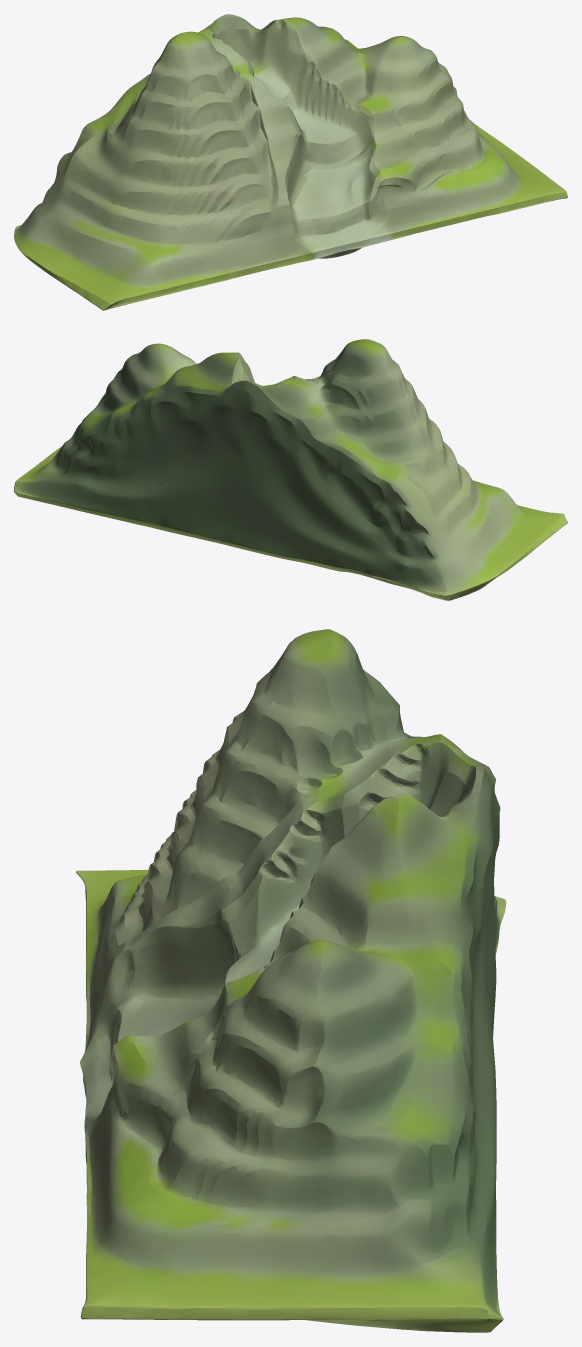
File: source.glb
The picture shows the model from 3 angles, top to bottom: view 1: azimuth 30°, elevation 25°; view 2: azimuth 150°, elevation 25°; view 3: azimuth 270°, elevation 25°; orthographic projection. The views are drawn at different scales.
Parts seen in each view (by area): view 1: model; view 2: model; view 3: model.
Boxes of the visible parts, x1,y1,x2,y2 form: model: [14, 14, 567, 310]; model: [14, 339, 567, 600]; model: [76, 629, 506, 1332].
Bounding box in the file's own units: 1.9 × 0.7906 × 0.7741.
Materials: 1 (1 with a texture image).
